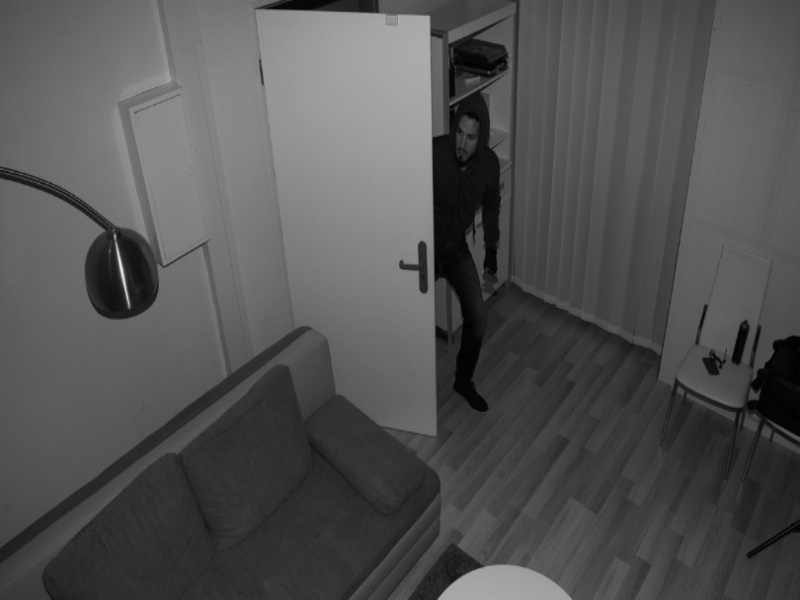person: (432, 89, 507, 416)
